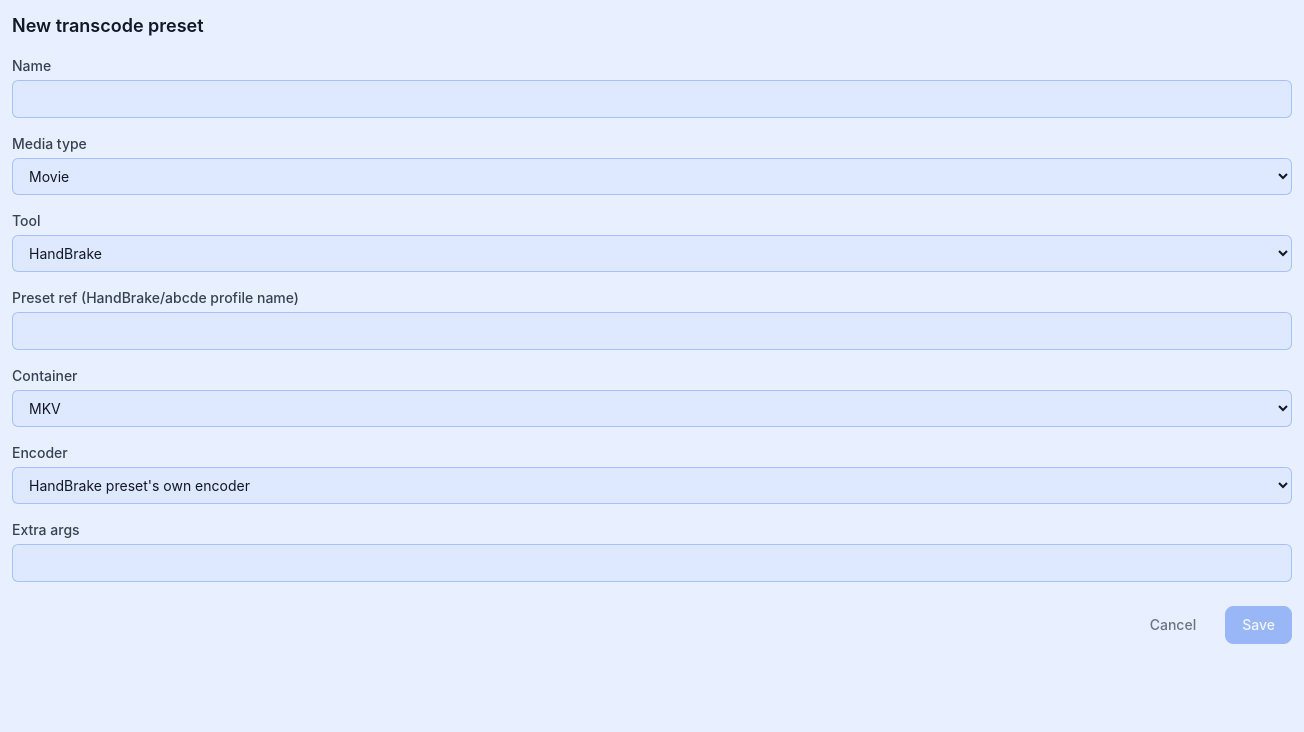
Scenario: TranscodePresetForm › error handling › shows the thrown error message inline
Type "X" into the field with test id "tp-name". click: coordinates (652, 99)
box: [12,80,1292,118]
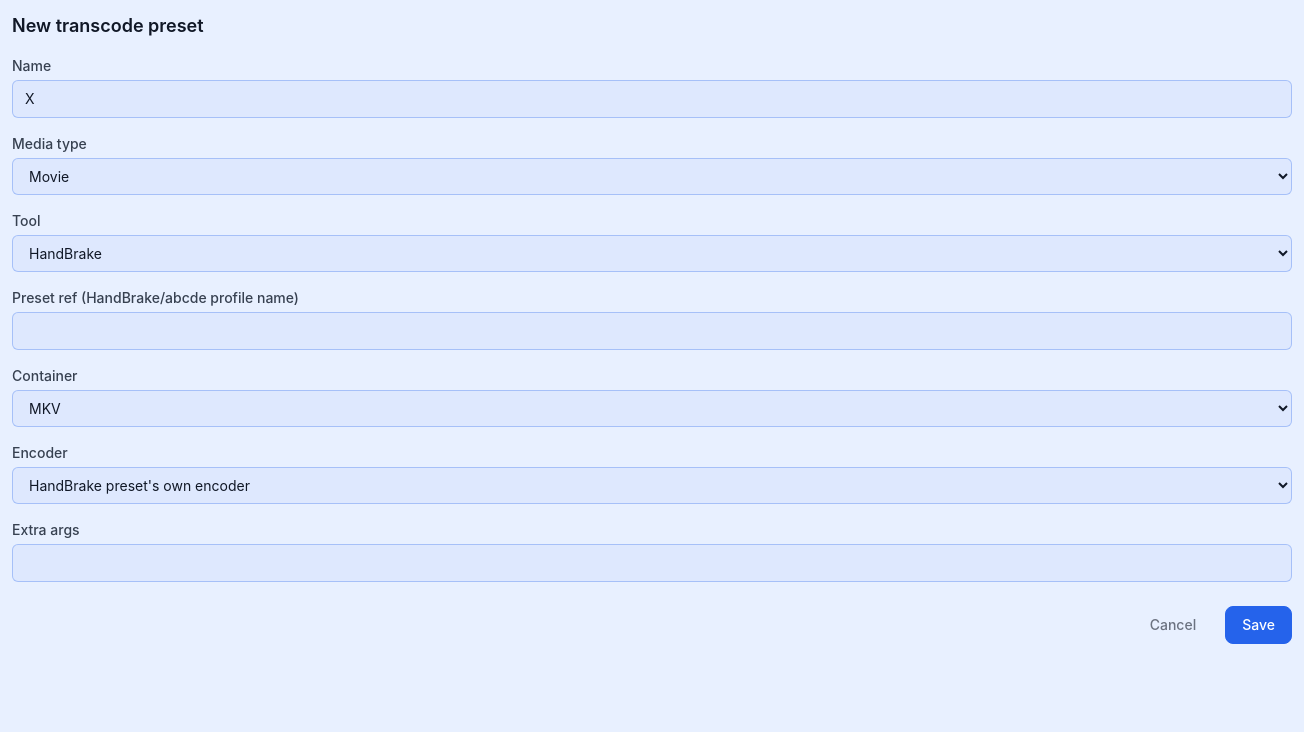
Click the button with test id "tp-submit". click: coordinates (1259, 625)
box: [1225,606,1292,644]
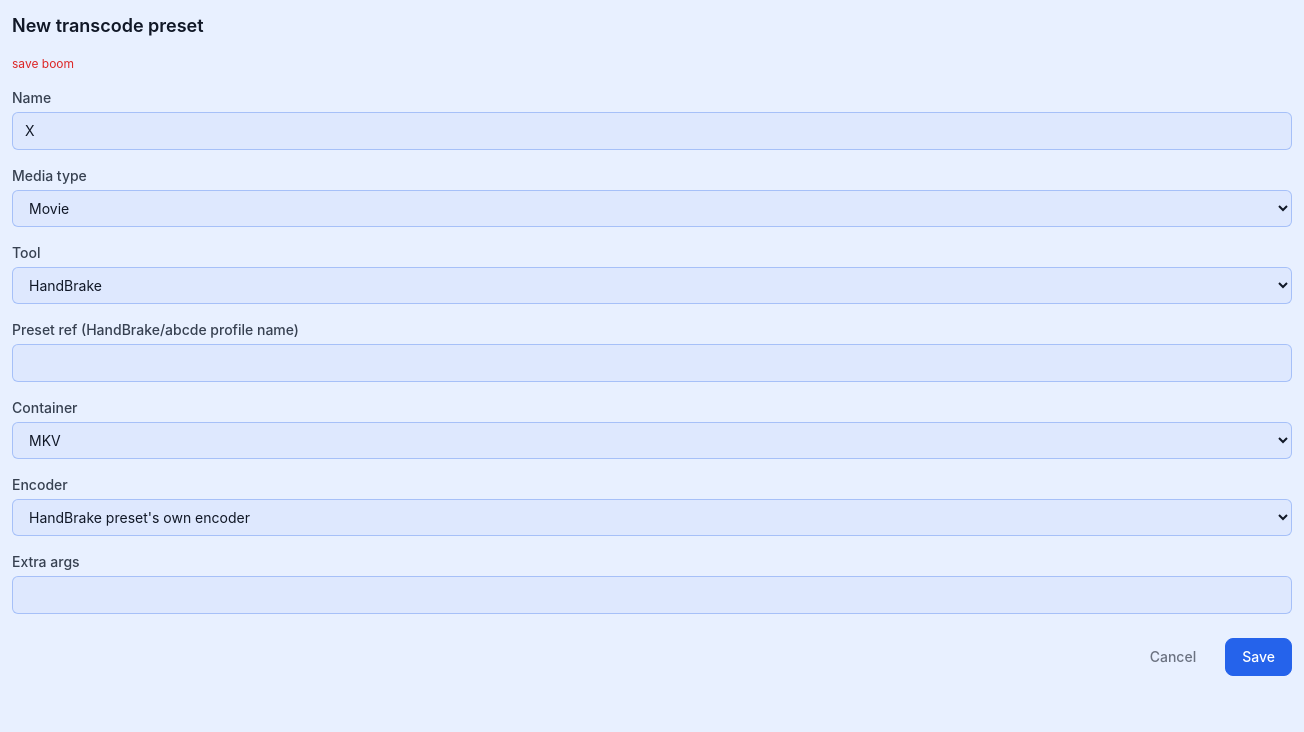
Check: the text "save boom" is shown, box [12,56,74,71]
